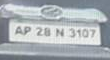0: (44, 26, 52, 37), (82, 28, 90, 39), (90, 28, 97, 39)
1: (77, 28, 83, 38)
2: (36, 25, 44, 37)
3: (68, 28, 76, 38)
A: (14, 25, 23, 36)
N: (55, 27, 64, 37)
P: (24, 26, 31, 36)
